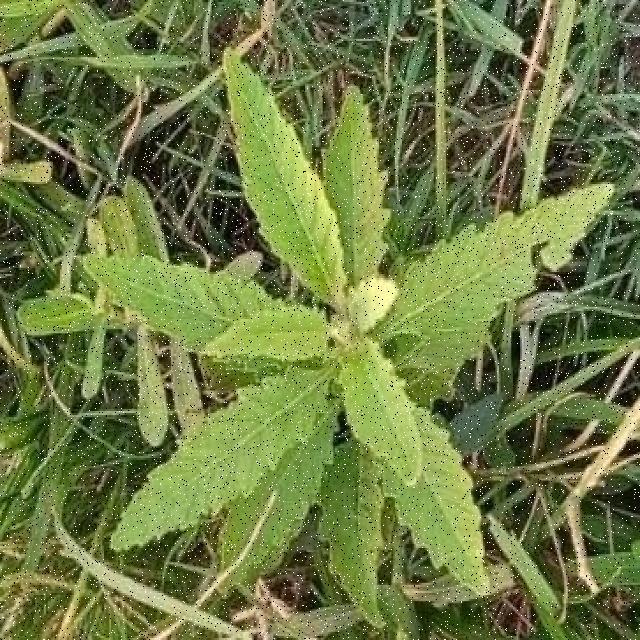weed: (85, 51, 612, 625)
